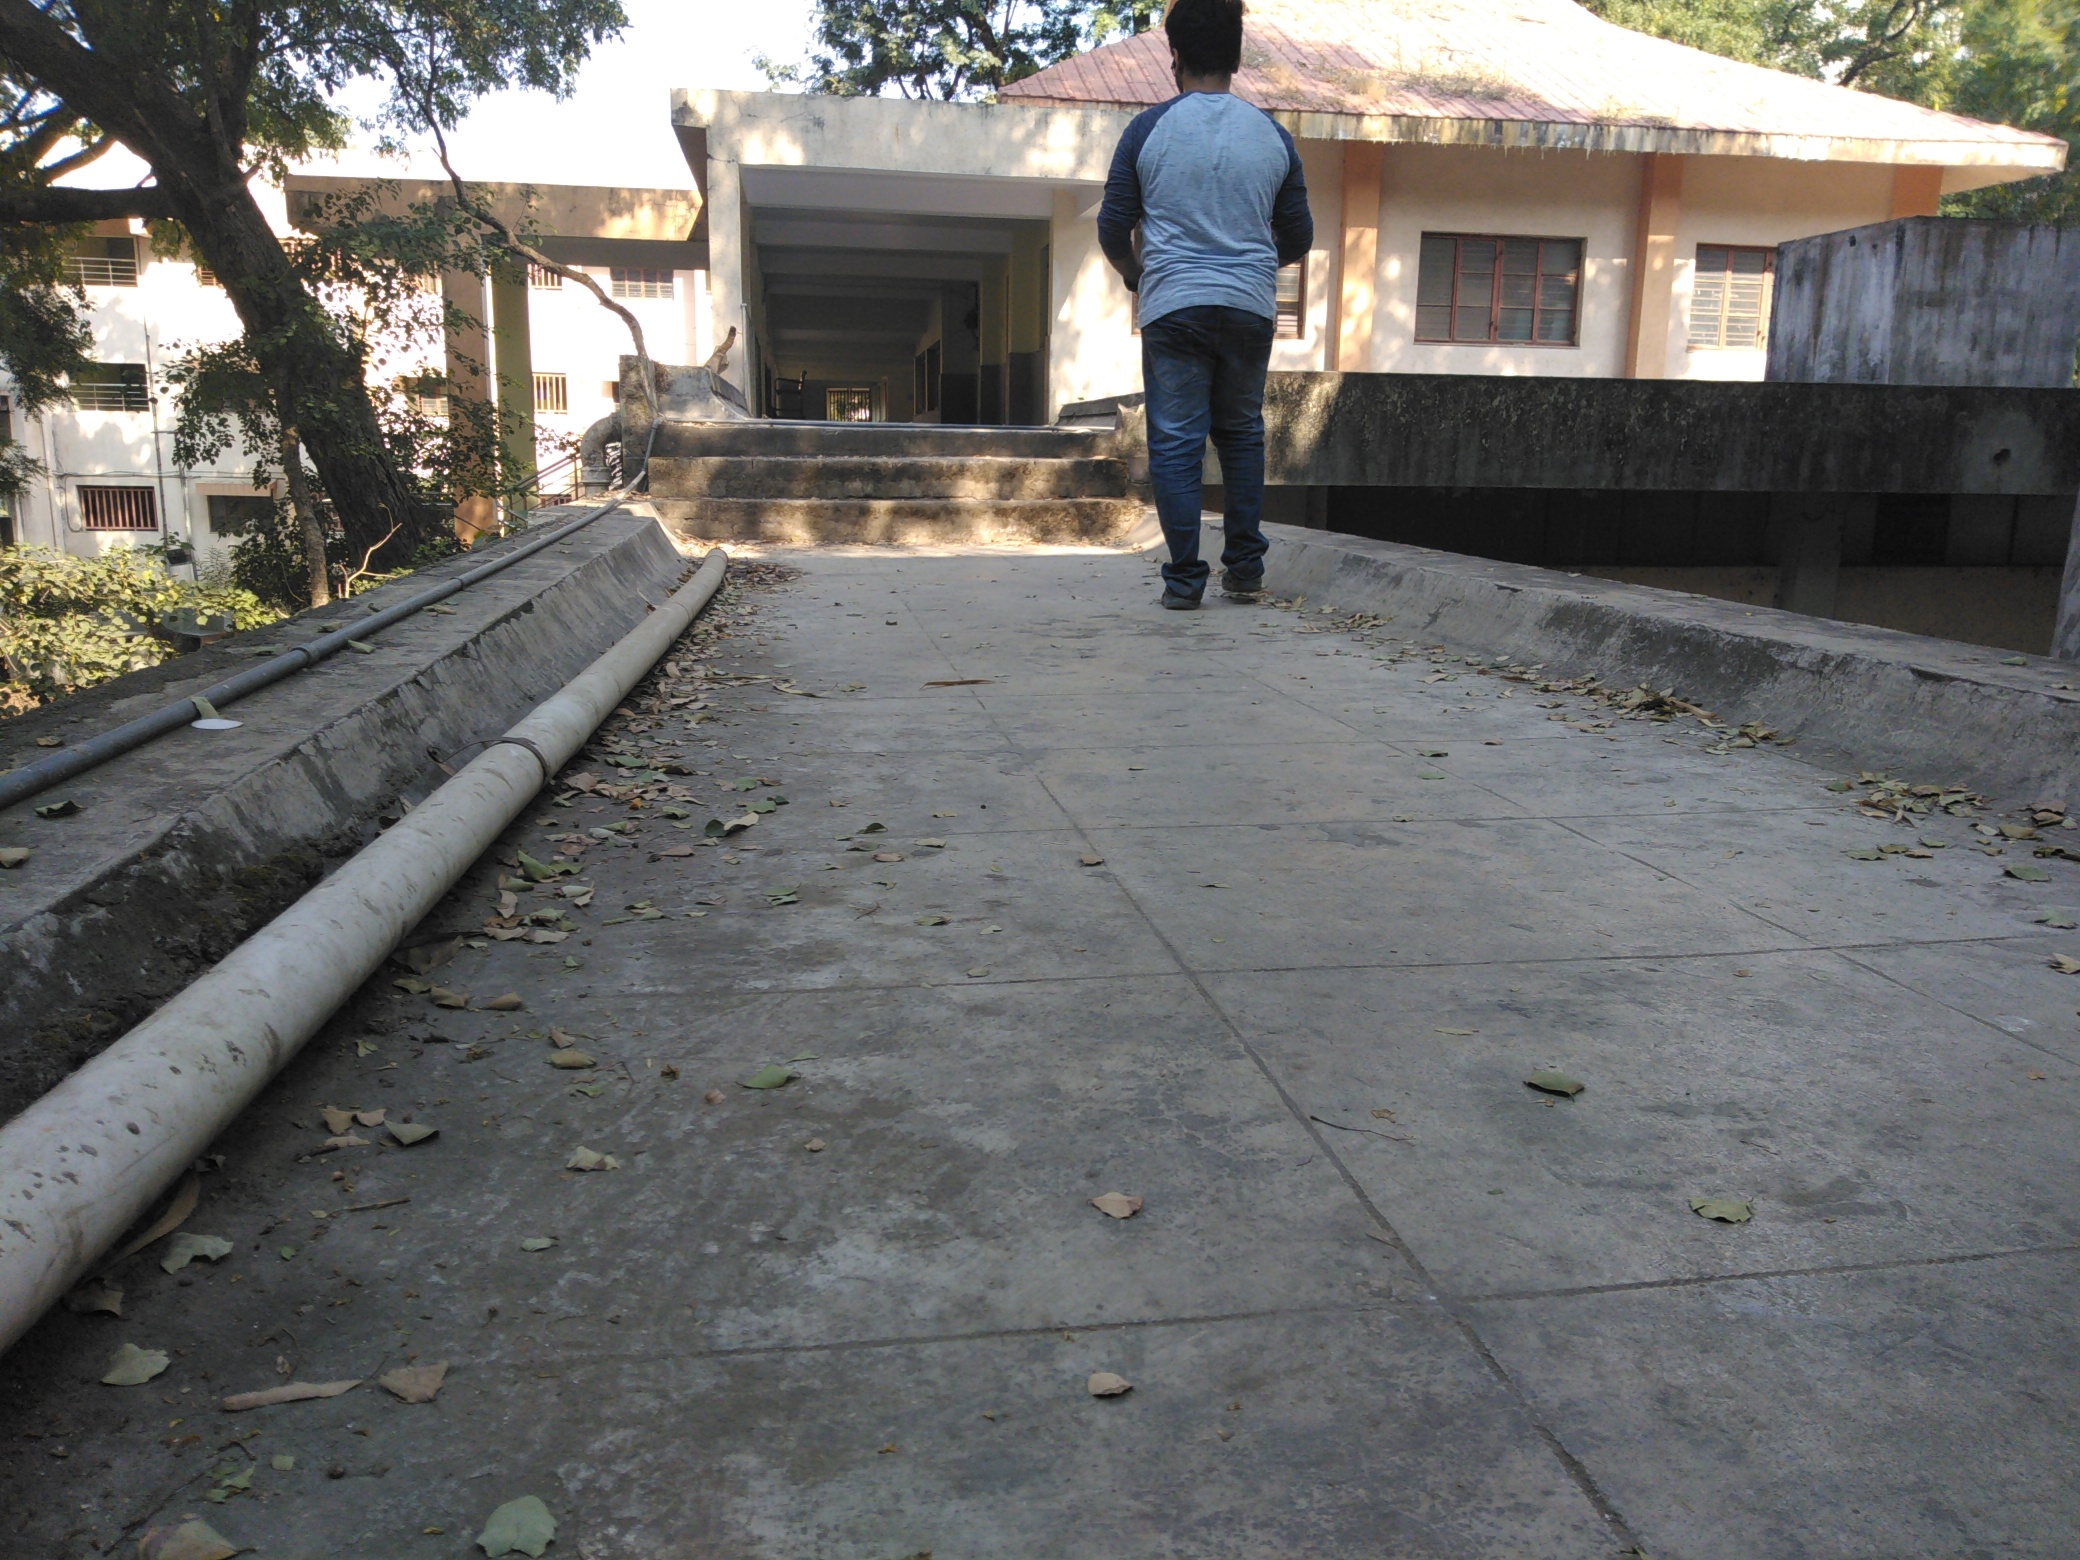stairs_up: (650, 415, 1127, 539)
